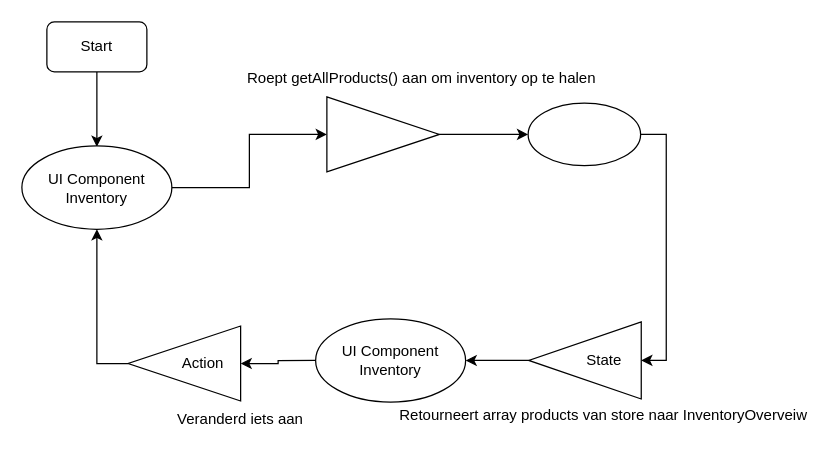
Some shapes in this 839 by 460 pixel diagram are drawn without their labels. The box of each missing label's shape, as (x1, y1, x2, y2) in pixels:
Getter: (326, 96, 439, 172)
Store: (527, 102, 641, 166)
